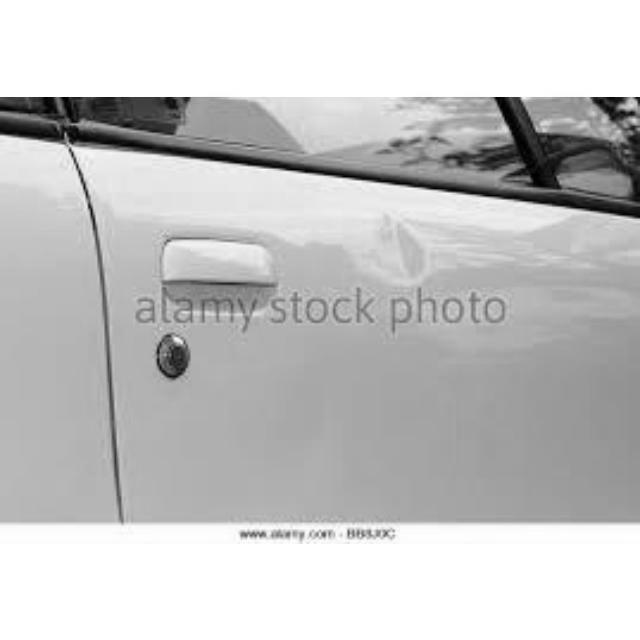doorouter-dent: (148, 139, 507, 398)
